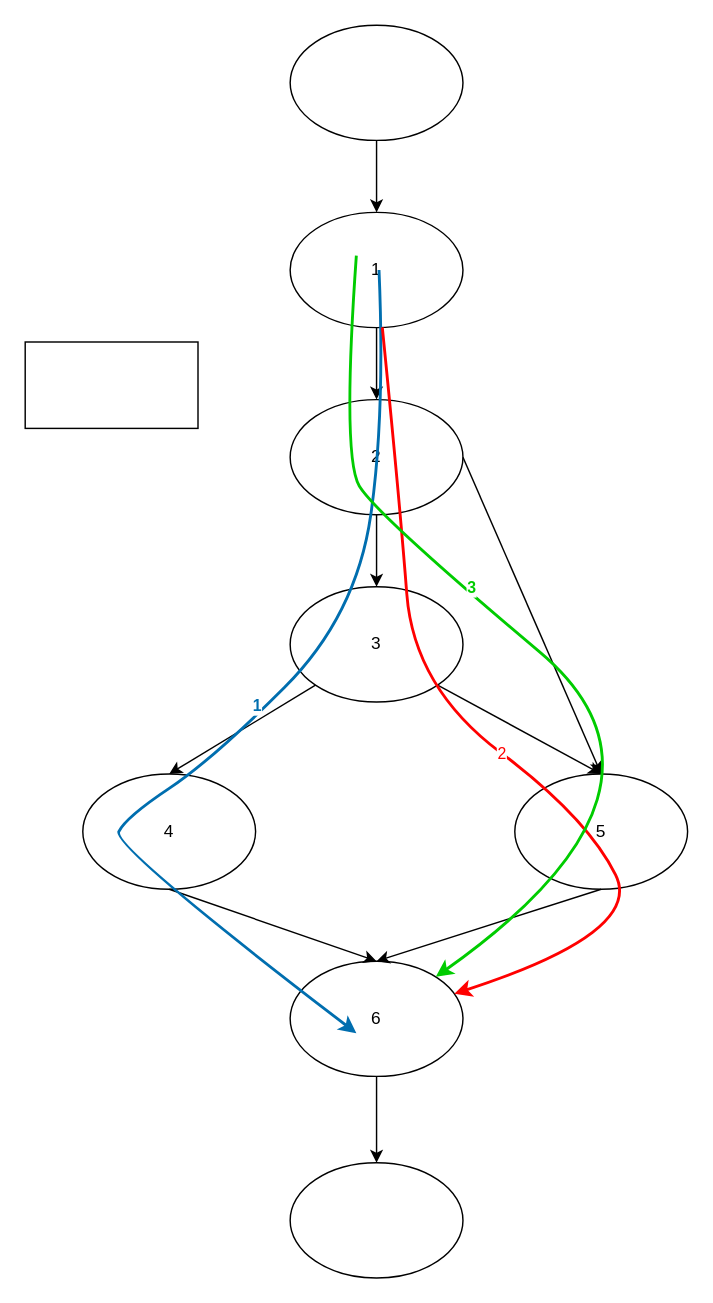
The diagram is 713 pixels wide and 1303 high, and some of its shapes have lost their labels. The box of each missing label's shape, as (x1, y1, x2, y2) in pixels:
Begin: (289, 24, 463, 140)
Camino 1 Camino 2 Camino3: (24, 341, 198, 428)
End: (289, 1161, 463, 1278)
